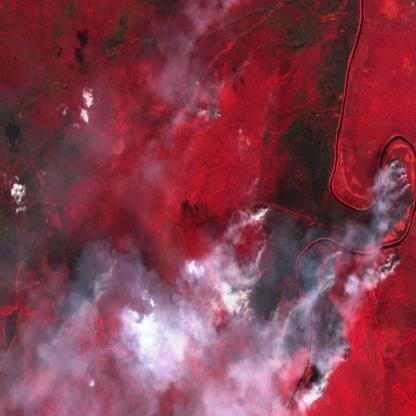fire: (241, 154, 416, 401), (58, 240, 124, 323)
